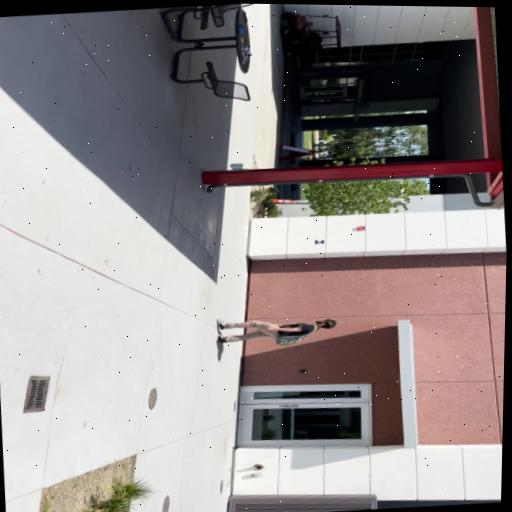target6: (314, 239, 324, 245)
